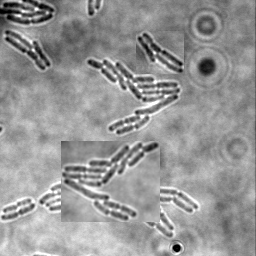Dividing: (1, 204, 37, 222), (3, 199, 33, 215)
Microcolony: (40, 167, 199, 238), (61, 141, 160, 222), (87, 59, 181, 136), (136, 31, 184, 74), (5, 30, 52, 72), (1, 1, 56, 26)
